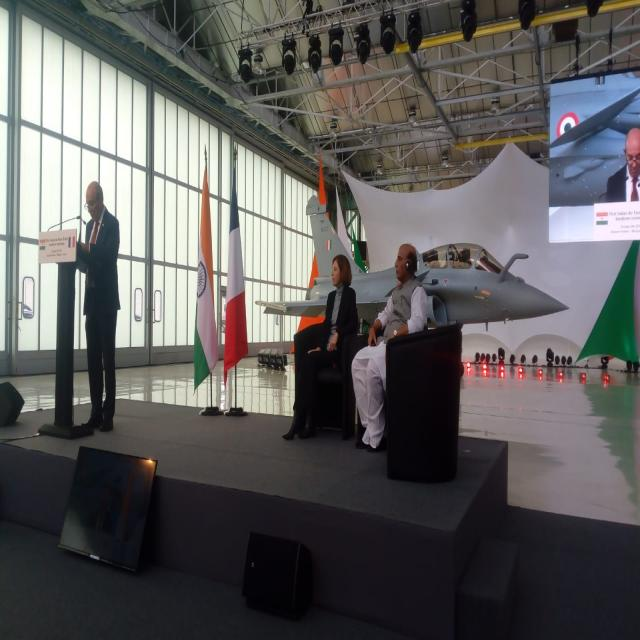MIL_Plane: (255, 195, 570, 377)
